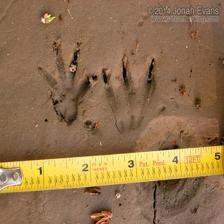rat: (95, 46, 167, 139), (36, 42, 98, 135)
